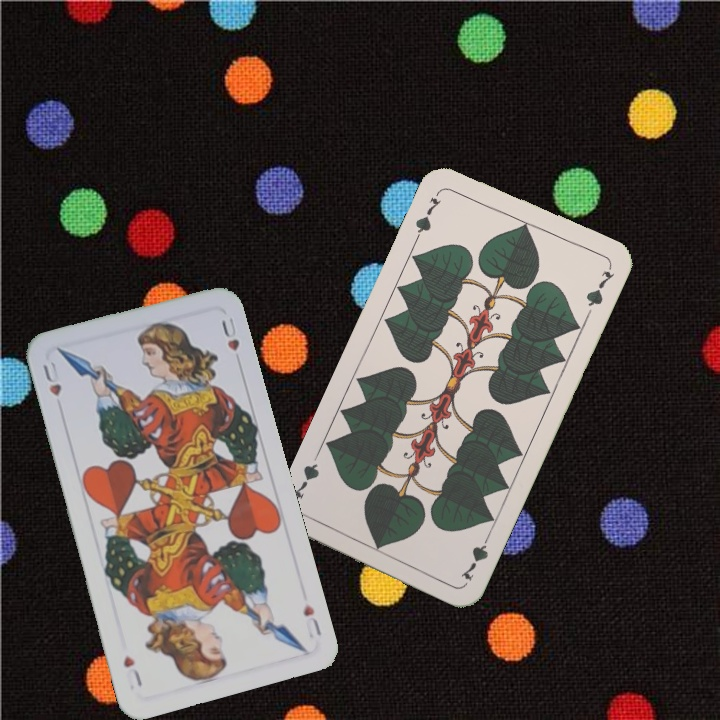G7: (456, 528, 494, 584), (411, 186, 445, 242)
HU: (39, 357, 64, 399), (299, 600, 324, 641)
